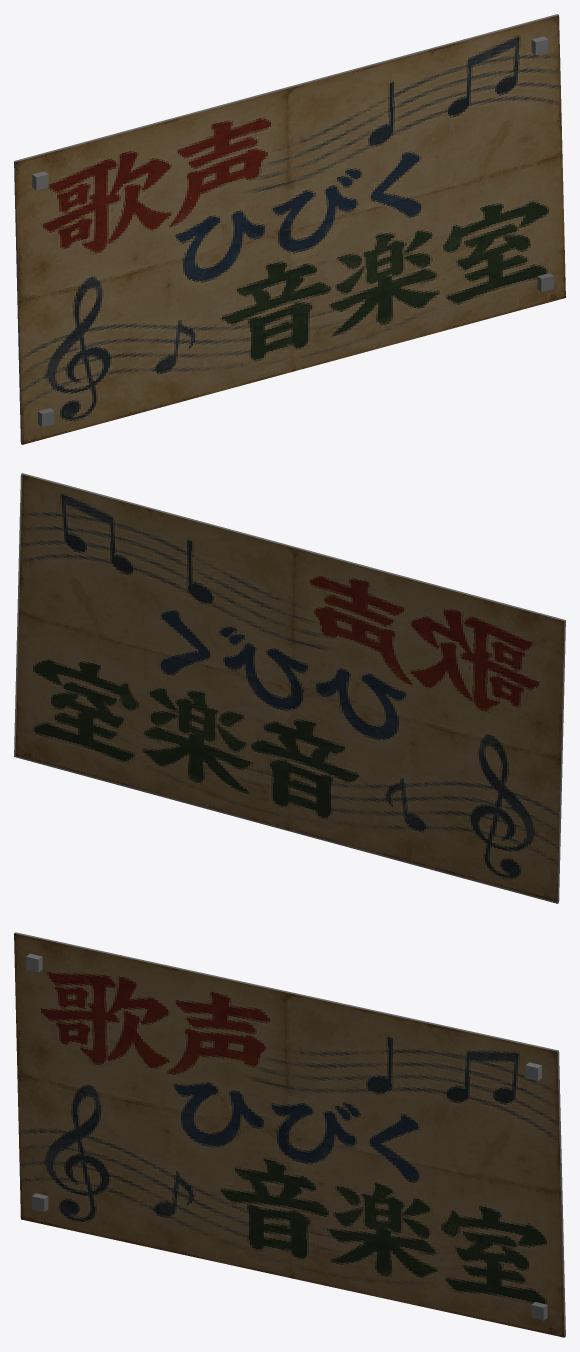
File: prop_poster-ongaku-0.glb
The picture shows the model from 3 angles, top to bottom: view 1: azimuth 30°, elevation 25°; view 2: azimuth 150°, elevation 25°; view 3: azimuth 330°, elevation 25°; orthographic projection.
Parts seen in each view (by area): view 1: prop_poster-ongaku-0; view 2: prop_poster-ongaku-0; view 3: prop_poster-ongaku-0.
Part boxes in pixels (x1,y1,x2,y2): prop_poster-ongaku-0: (14,14,565,444); prop_poster-ongaku-0: (14,473,565,903); prop_poster-ongaku-0: (14,932,565,1337).
Bounding box in the file's own units: 0.622 × 0.3226 × 0.0115.
2 materials, 2 textured.
